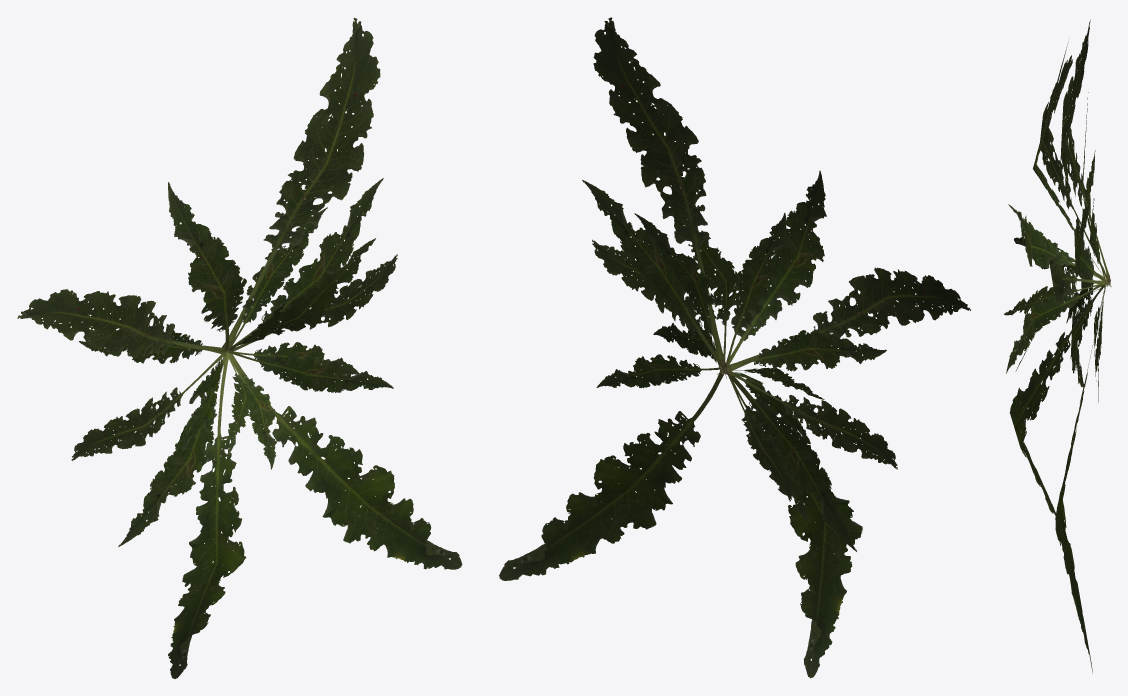
The model's file is Weed_03_Var3_LOD2.fbx.
The picture shows the model from 3 angles, left to right: view 1: azimuth 30°, elevation 25°; view 2: azimuth 150°, elevation 25°; view 3: azimuth 270°, elevation 25°; orthographic projection. The views are drawn at different scales.
Parts seen in each view (by area): view 1: Var3_LOD2; view 2: Var3_LOD2; view 3: Var3_LOD2.
Boxes of the visible parts, left/top/right/bottom form: Var3_LOD2: left=17, top=17, right=462, bottom=678; Var3_LOD2: left=499, top=17, right=970, bottom=678; Var3_LOD2: left=1004, top=19, right=1111, bottom=673.
Bounding box in the file's own units: 56.78 × 72.2 × 11.4.
